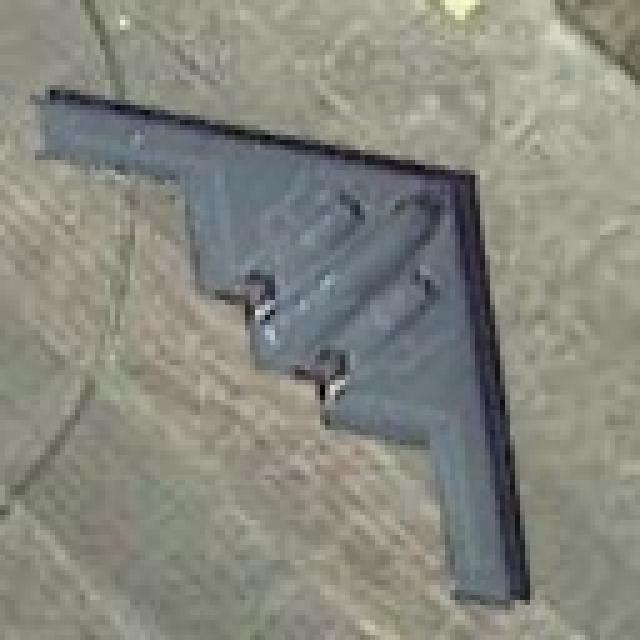B-2_TopDown: (25, 75, 540, 605)
